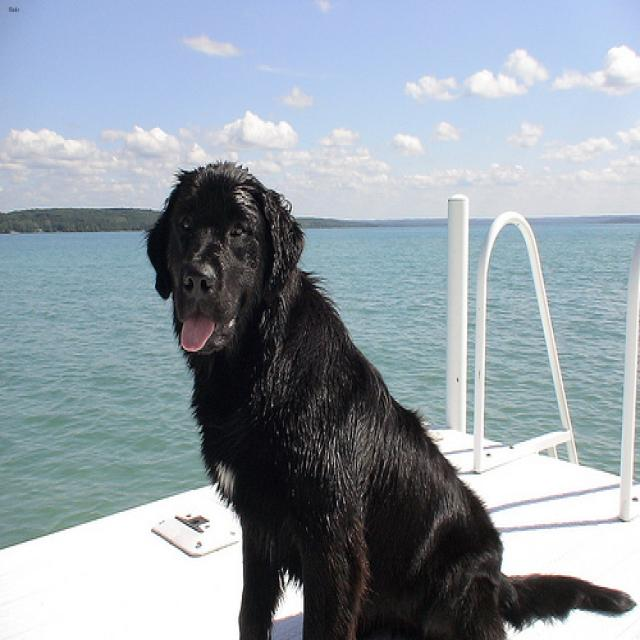dog-newfoundland: (138, 152, 637, 637)
